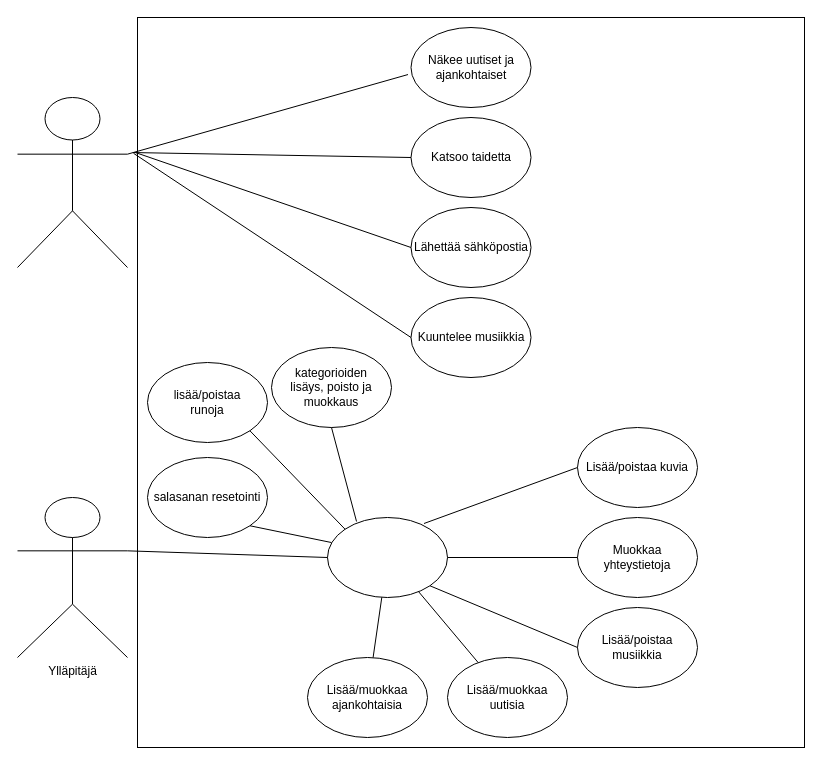
Some shapes in this 822 by 765 pixel diagram are drawn without their labels. Here are the shapes that lost their labels. From the top down, the centre of each, then its label:
At [72,182]: "Käyttäjä".
At [387,557]: "Kirjautuminen".
